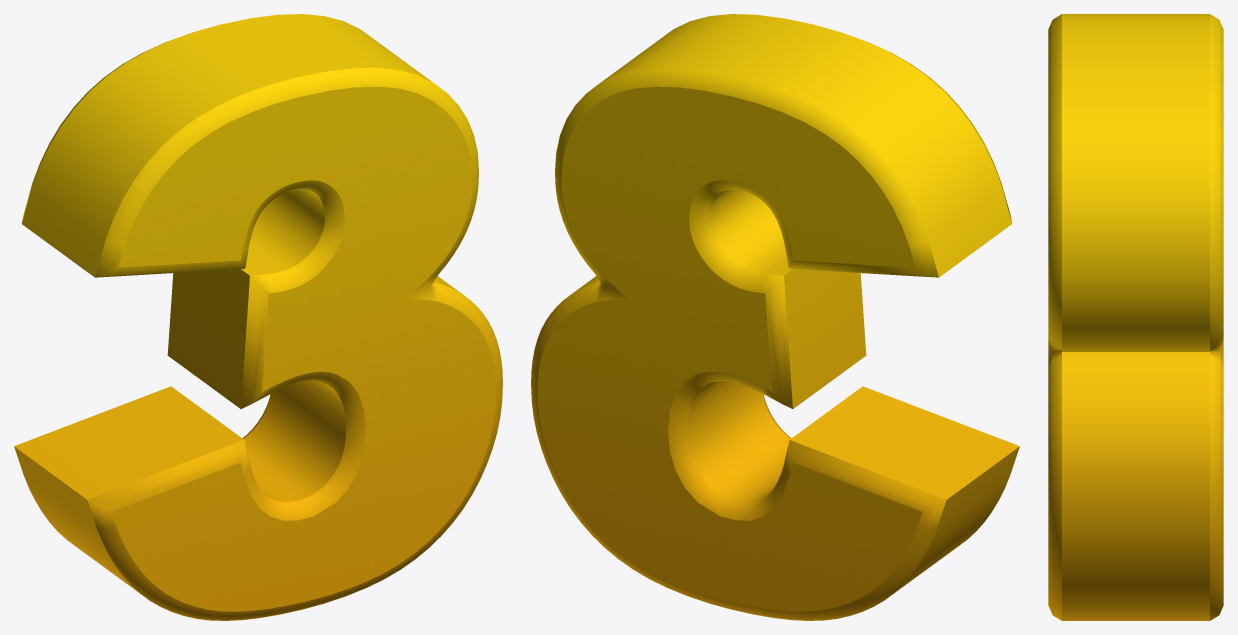
The picture shows the model from 3 angles, left to right: view 1: azimuth 30°, elevation 25°; view 2: azimuth 150°, elevation 25°; view 3: azimuth 270°, elevation 25°; orthographic projection.
Visible parts, largest first — view 1: 003-3; view 2: 003-3; view 3: 003-3.
Part boxes in pixels (x1,y1,x2,y2): 003-3: [14, 14, 502, 620]; 003-3: [531, 14, 1019, 620]; 003-3: [1048, 14, 1223, 620].
Size of the model in its own units: 6.98 by 8.56 by 2.52.
